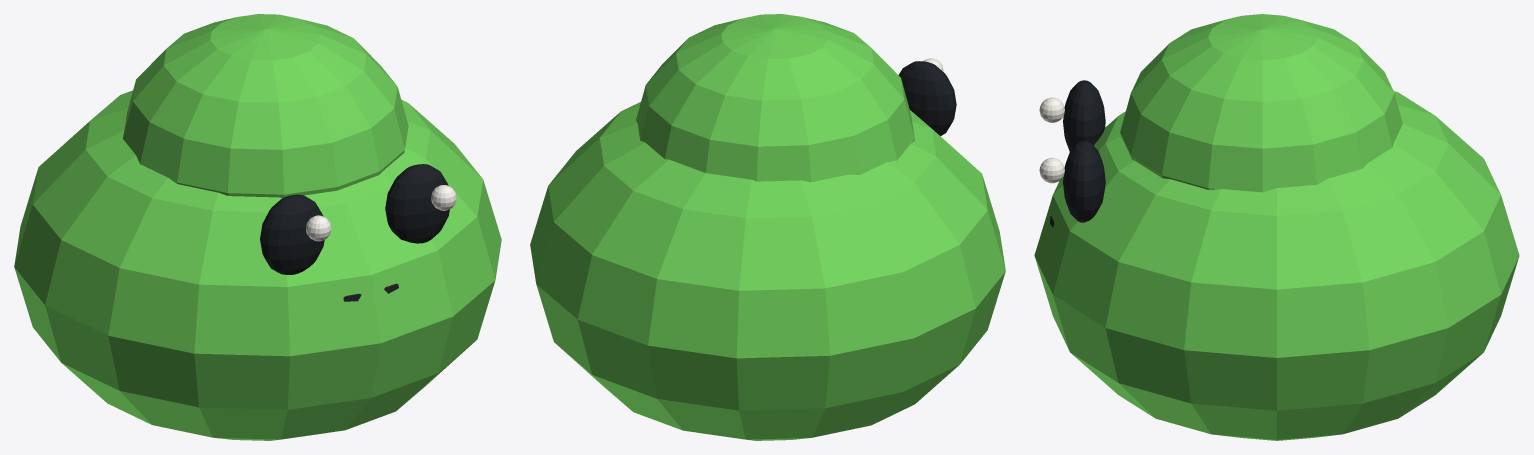
Rendered from slime-lod0.glb.
The picture shows the model from 3 angles, left to right: view 1: azimuth 30°, elevation 25°; view 2: azimuth 150°, elevation 25°; view 3: azimuth 270°, elevation 25°; orthographic projection. The views are drawn at different scales.
Parts seen in each view (by area): view 1: slime; view 2: slime; view 3: slime.
Boxes of the visible parts, left/top/right/bottom form: slime: left=14, top=14, right=501, bottom=440; slime: left=530, top=14, right=1005, bottom=440; slime: left=1034, top=14, right=1519, bottom=440.
Size of the model in its own units: 0.68 by 0.5948 by 0.68.
